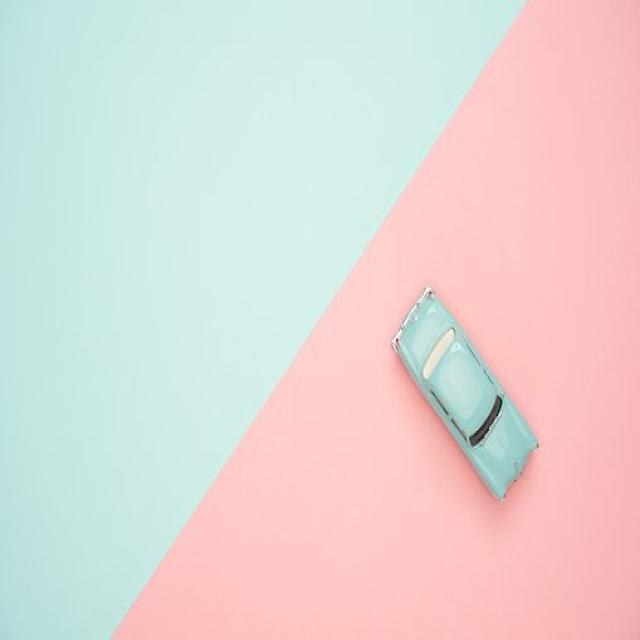Car: (390, 282, 538, 502)
